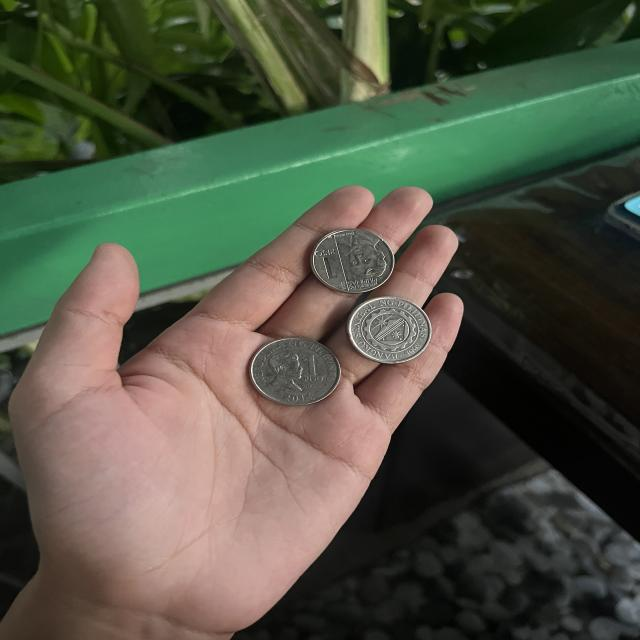1_New_Front: (314, 225, 393, 288)
1_Old_Back: (363, 310, 421, 361)
1_Old_Front: (271, 349, 323, 398)
